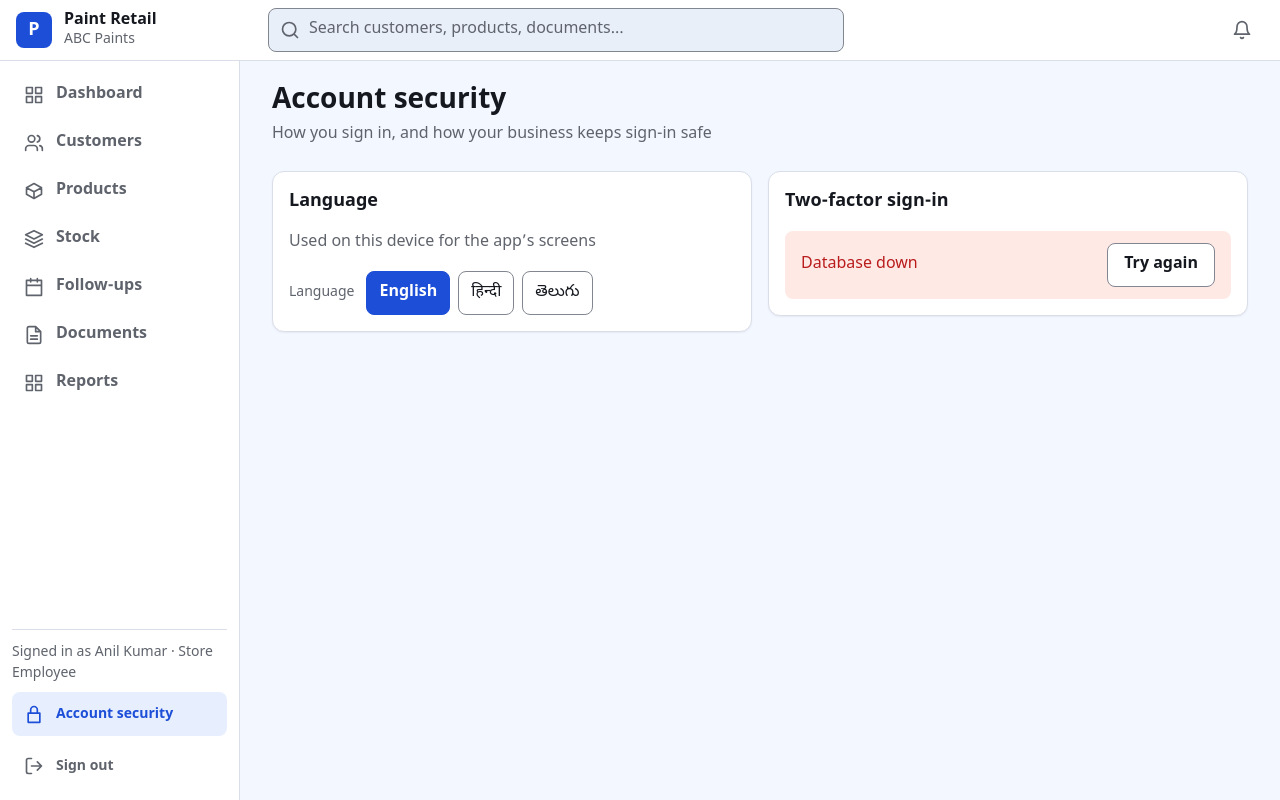
own two-factor sign-in › offers a retry when the settings cannot be loaded
The image size is (1280, 800).
Expected: the message shows "Database down", [801,254,918,275]
Click the button "Try again" at point(1161, 265), box [1107,243,1215,287]
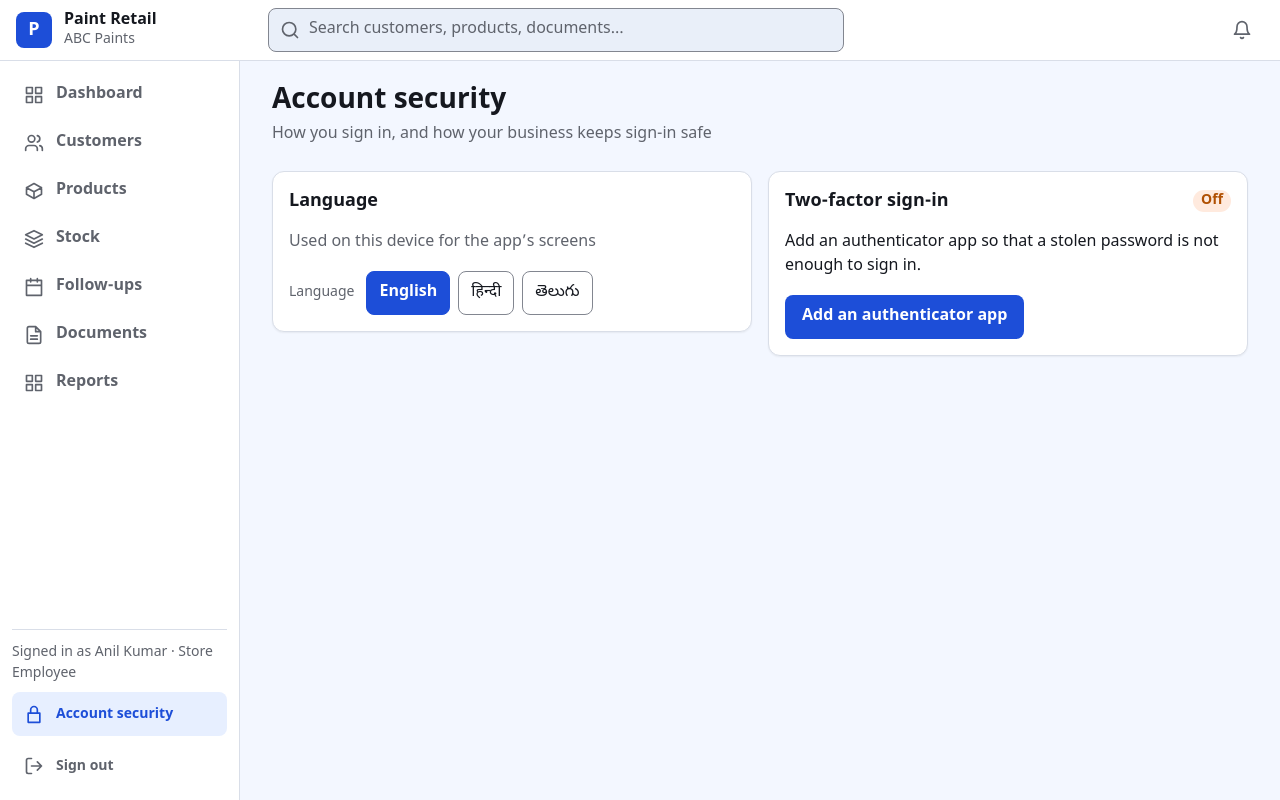
Expected: the text "Off" is shown, [1193,190,1231,212]
